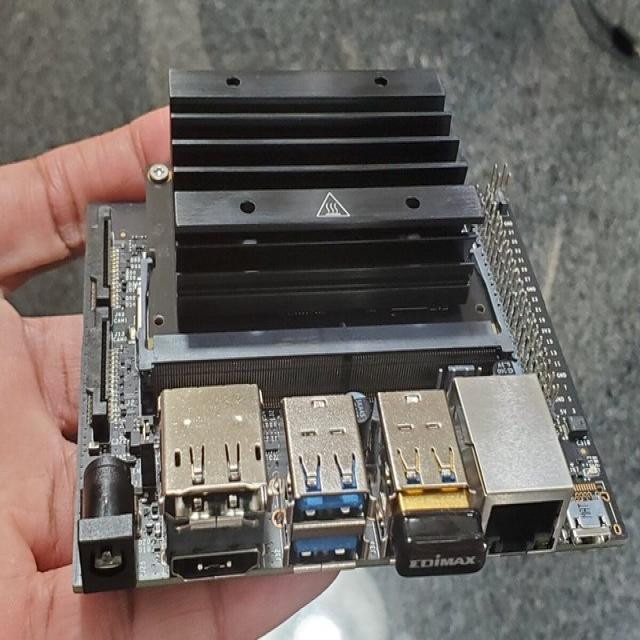Jetson Nano: (73, 69, 631, 588)
